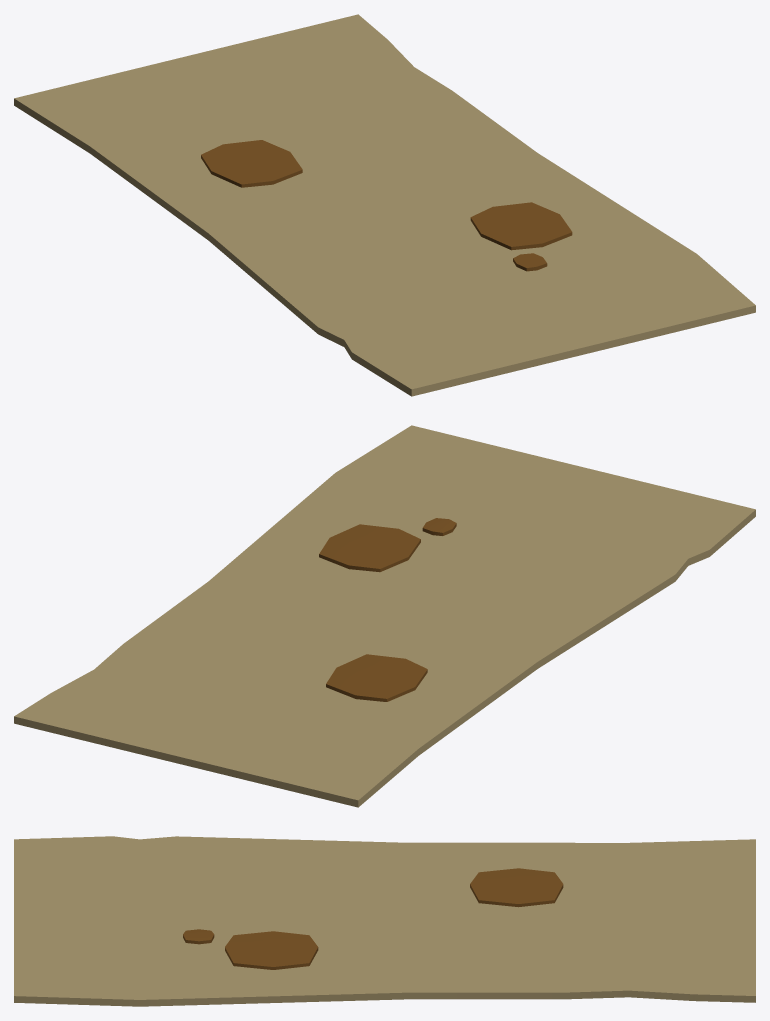
File: path.fbx
The picture shows the model from 3 angles, top to bottom: view 1: azimuth 30°, elevation 25°; view 2: azimuth 150°, elevation 25°; view 3: azimuth 270°, elevation 25°; orthographic projection. The views are drawn at different scales.
Visible parts, largest first — view 1: path8; view 2: path8; view 3: path8.
Part boxes in pixels (box(x1,y1,x2,y2)): path8: box(14, 14, 755, 396); path8: box(14, 425, 755, 807); path8: box(14, 836, 755, 1006).
Size of the model in its own units: 1044 by 30.33 by 2000.
